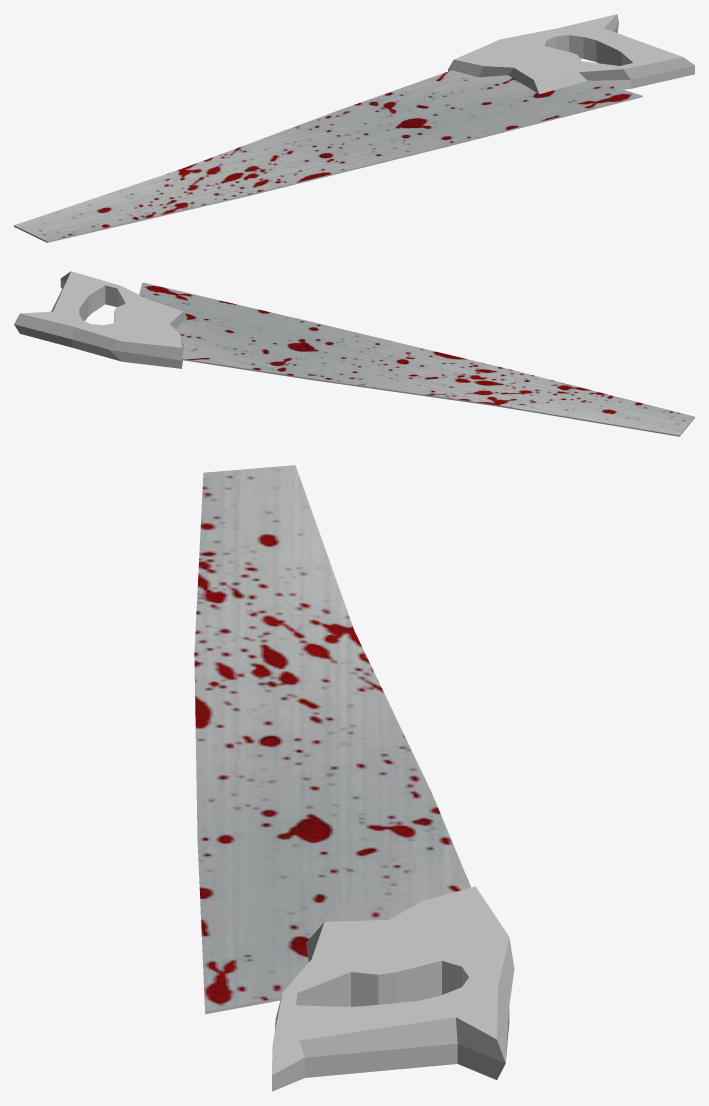
Rendered from saw.fbx.
3 views of the same model, one above another, from view 1: azimuth 30°, elevation 25°; view 2: azimuth 150°, elevation 25°; view 3: azimuth 270°, elevation 25° (orthographic). The views are drawn at different scales.
Parts seen in each view (by area): view 1: Saw; view 2: Saw; view 3: Saw.
Part boxes in pixels (<box>): Saw: <box>14,14,694,242</box>; Saw: <box>14,271,694,436</box>; Saw: <box>194,465,514,1091</box>.
Size of the model in its own units: 68.19 by 2.12 by 15.12.
